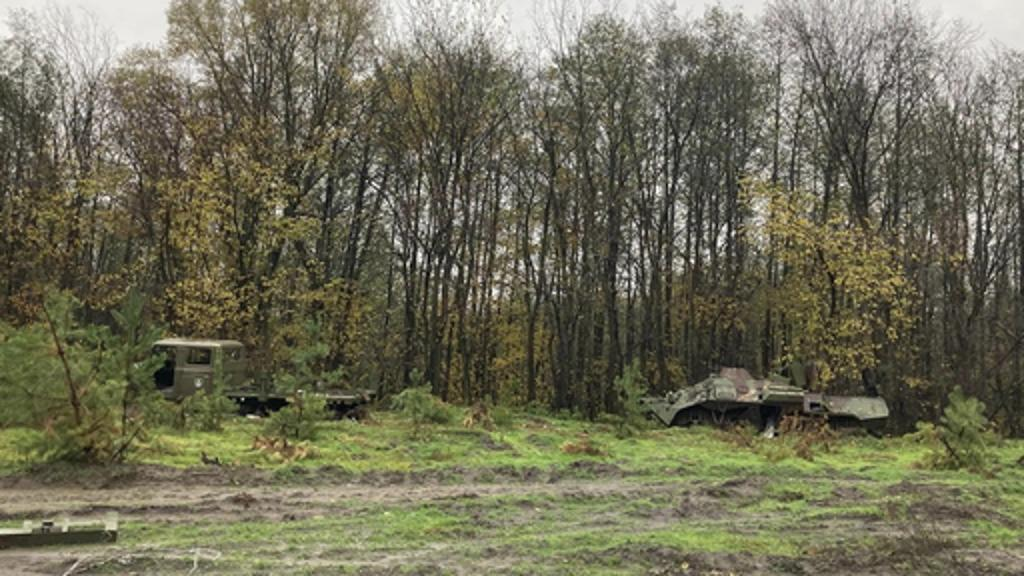APC-IFV: (638, 358, 894, 448)
TRUCK: (138, 330, 380, 432)
